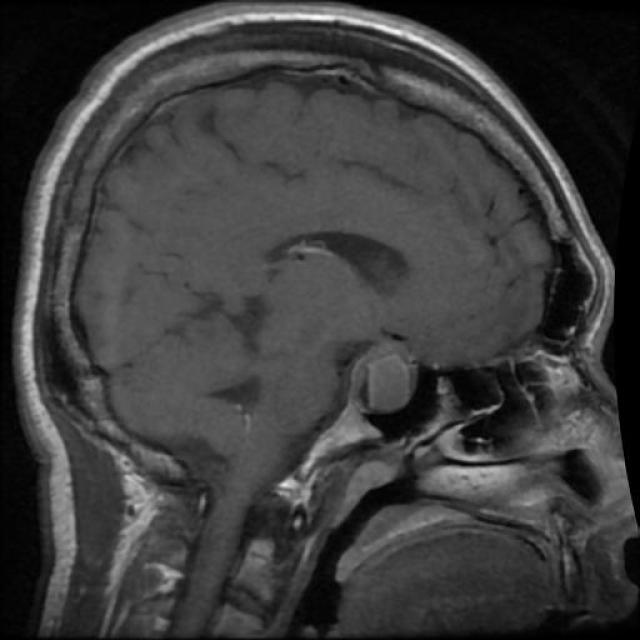pituitary: (341, 335, 428, 429)
